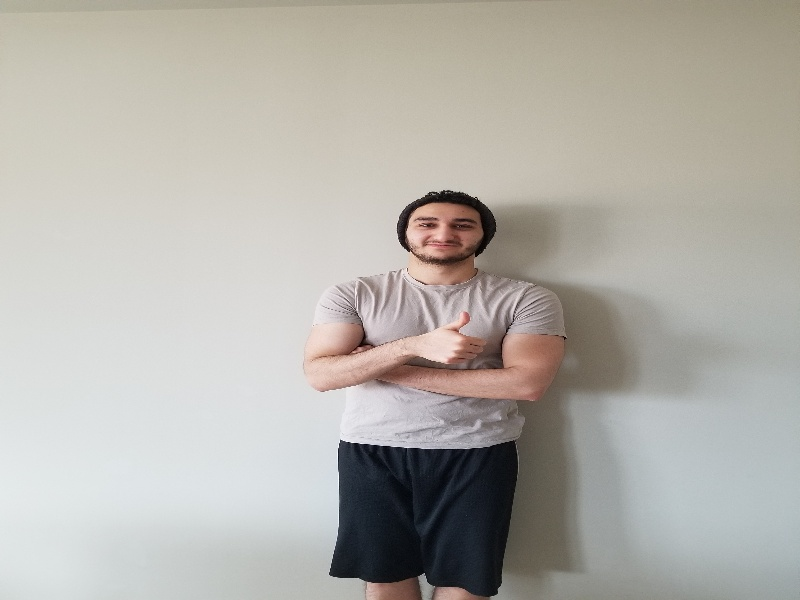smile: (397, 197, 488, 267)
thumbup: (417, 312, 485, 369)
